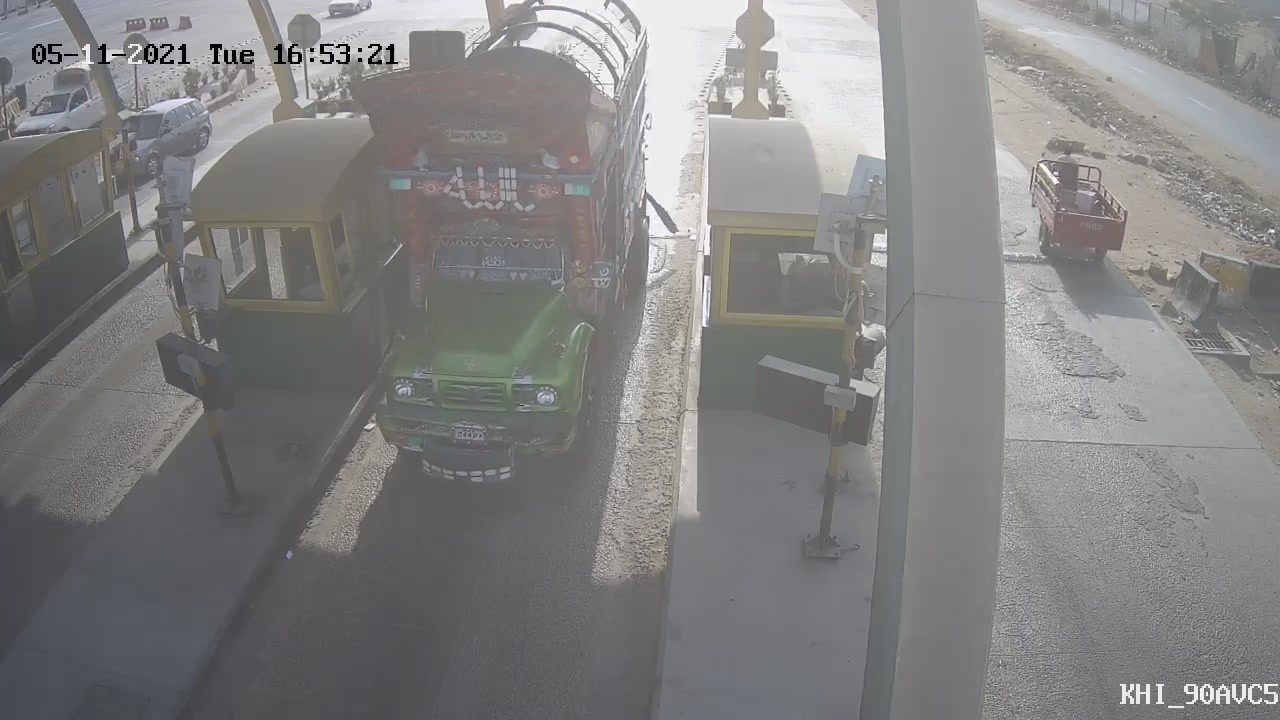F5: (322, 1, 679, 516)
